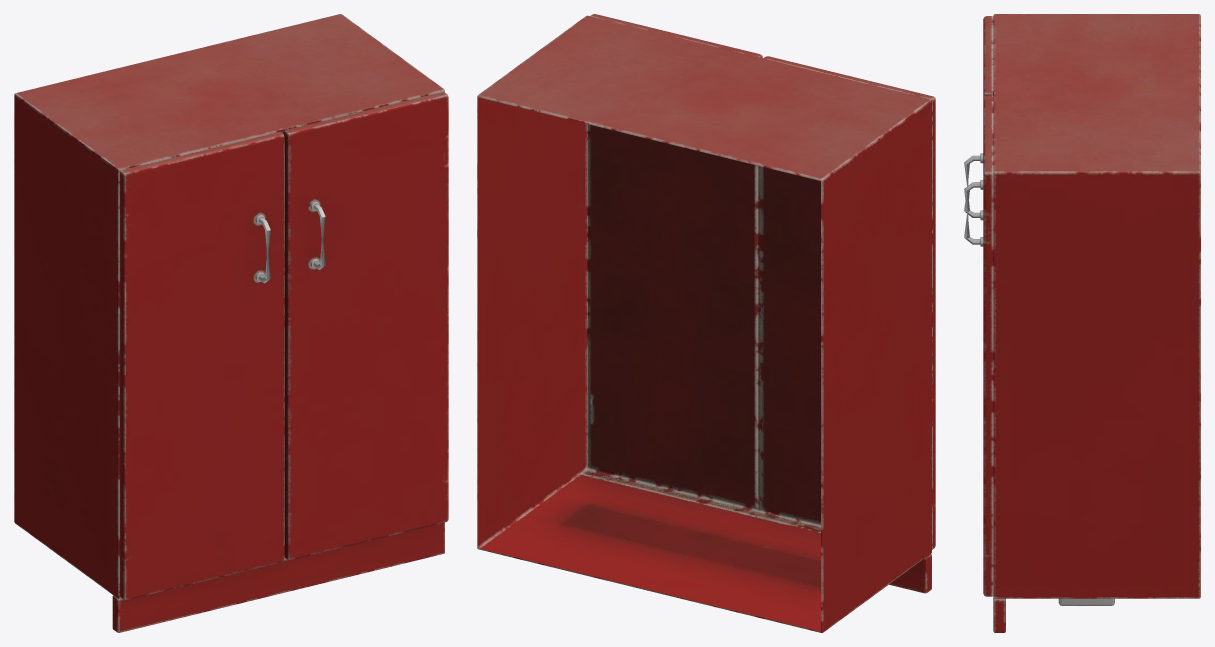
Rendered from kit_upper_60_light_red.glb.
3 views of the same model, side by side, from view 1: azimuth 30°, elevation 25°; view 2: azimuth 150°, elevation 25°; view 3: azimuth 270°, elevation 25° (orthographic). The views are drawn at different scales.
Parts seen in each view (by area): view 1: kit_upper_60_light_red; view 2: kit_upper_60_light_red; view 3: kit_upper_60_light_red.
Part boxes in pixels (<box>): kit_upper_60_light_red: <box>14,14,448,632</box>; kit_upper_60_light_red: <box>477,14,935,632</box>; kit_upper_60_light_red: <box>964,14,1200,632</box>.
Bounding box in the file's own units: 0.598 × 0.81 × 0.3768.
1 material, 1 textured.
